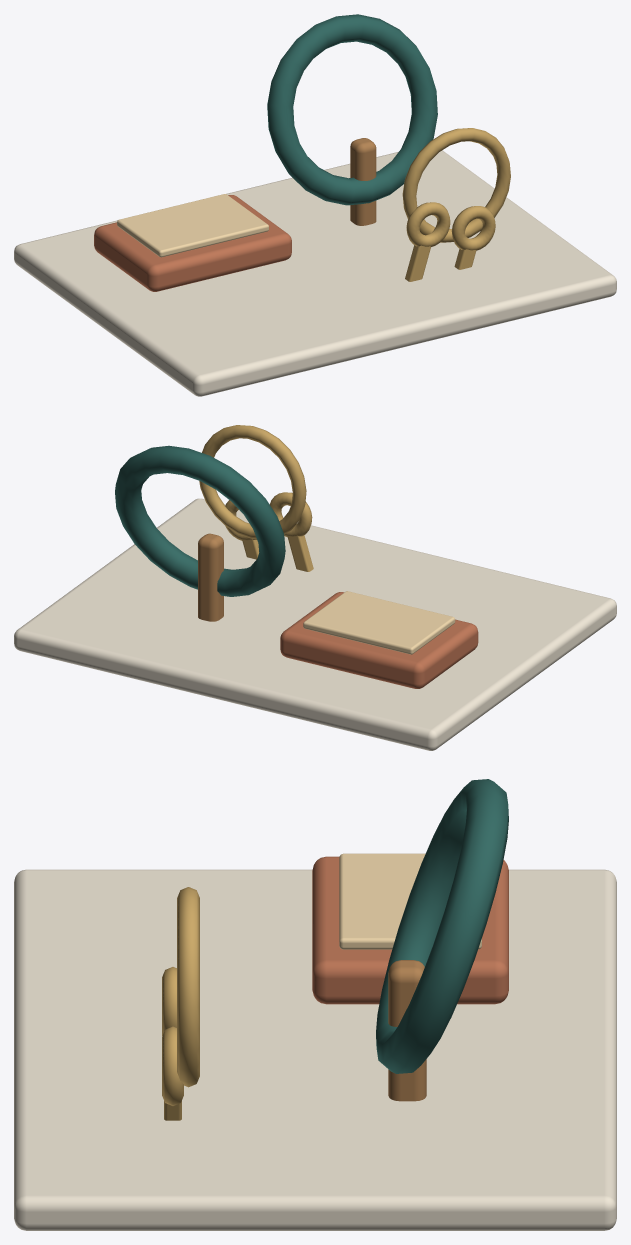
Rendered from work-lost-items.glb.
The picture shows the model from 3 angles, top to bottom: view 1: azimuth 30°, elevation 25°; view 2: azimuth 150°, elevation 25°; view 3: azimuth 270°, elevation 25°; orthographic projection. The views are drawn at different scales.
Parts seen in each view (by area): view 1: display-plinth, magnifying-glass, lost-wallet, wallet-card, keyring, key-bow (×2), magnifier-handle, key-shaft; view 2: display-plinth, magnifying-glass, lost-wallet, wallet-card, keyring, magnifier-handle, key-bow, key-shaft; view 3: display-plinth, magnifying-glass, lost-wallet, wallet-card, keyring, magnifier-handle, key-bow (×2).
Part boxes in pixels (x1,y1,x2,y2): display-plinth: (14, 150, 616, 396); magnifying-glass: (267, 14, 437, 205); lost-wallet: (94, 195, 291, 291); wallet-card: (117, 194, 268, 257); keyring: (402, 128, 510, 242); key-bow (×2): (406, 202, 495, 250); magnifier-handle: (350, 138, 376, 225); key-shaft: (405, 245, 430, 281); display-plinth: (14, 498, 616, 750); magnifying-glass: (115, 445, 285, 596); lost-wallet: (280, 592, 478, 688); wallet-card: (303, 591, 455, 654); keyring: (199, 425, 306, 538); magnifier-handle: (198, 533, 223, 621); key-bow: (269, 492, 312, 536); key-shaft: (287, 535, 313, 571); display-plinth: (14, 869, 616, 1230); magnifying-glass: (376, 779, 508, 1073); lost-wallet: (312, 856, 508, 1004); wallet-card: (339, 853, 481, 949); keyring: (177, 887, 199, 1087); magnifier-handle: (388, 960, 426, 1101); key-bow (×2): (162, 967, 183, 1105).
Bounding box in the file's own units: 2.5 × 1.34 × 1.9.
